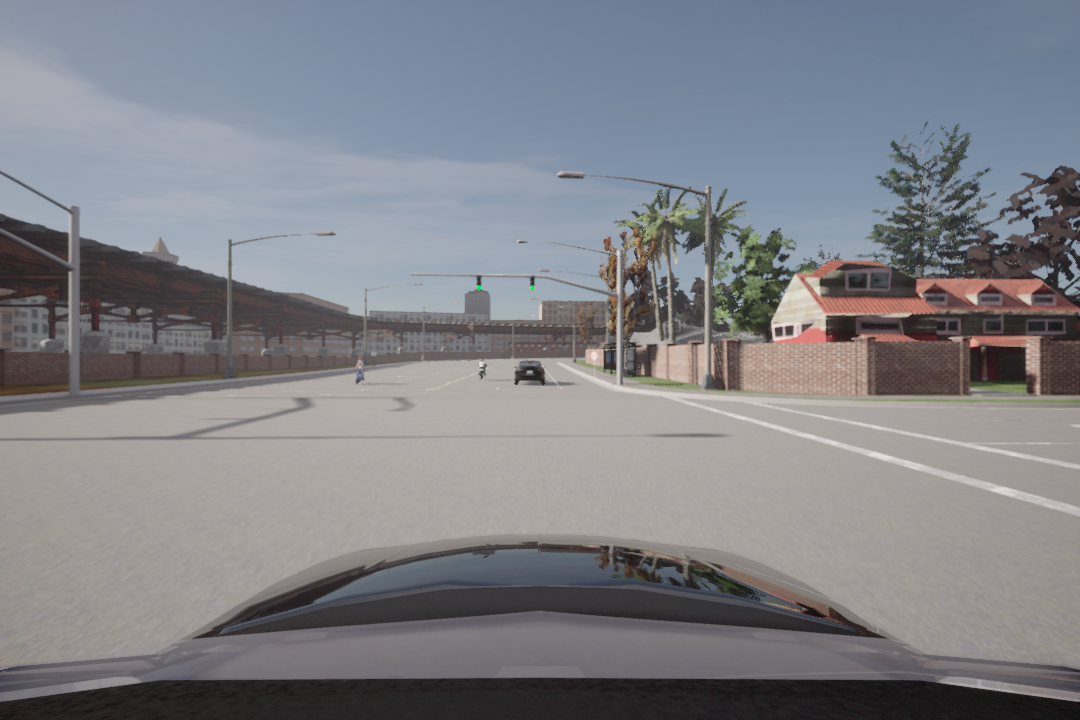TrafficLight: (526, 276, 541, 292), (474, 271, 484, 294)
